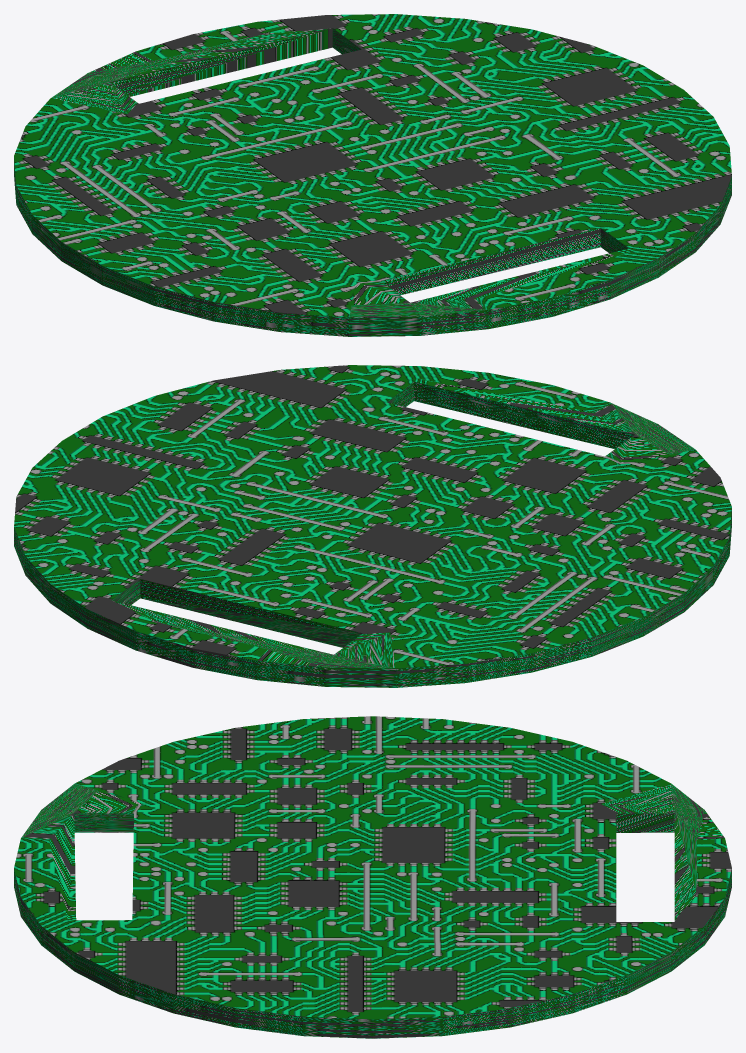
File: epuck_top.obj
The picture shows the model from 3 angles, top to bottom: view 1: azimuth 30°, elevation 25°; view 2: azimuth 150°, elevation 25°; view 3: azimuth 270°, elevation 25°; orthographic projection.
Parts seen in each view (by area): view 1: Cylinder.001; view 2: Cylinder.001; view 3: Cylinder.001.
Part boxes in pixels (<box>): Cylinder.001: <box>14,14,731,336</box>; Cylinder.001: <box>14,365,731,687</box>; Cylinder.001: <box>14,716,731,1038</box>.
Bounding box in the file's own units: 0.6217 × 0.0186 × 0.6222.
1 material, 1 textured.
